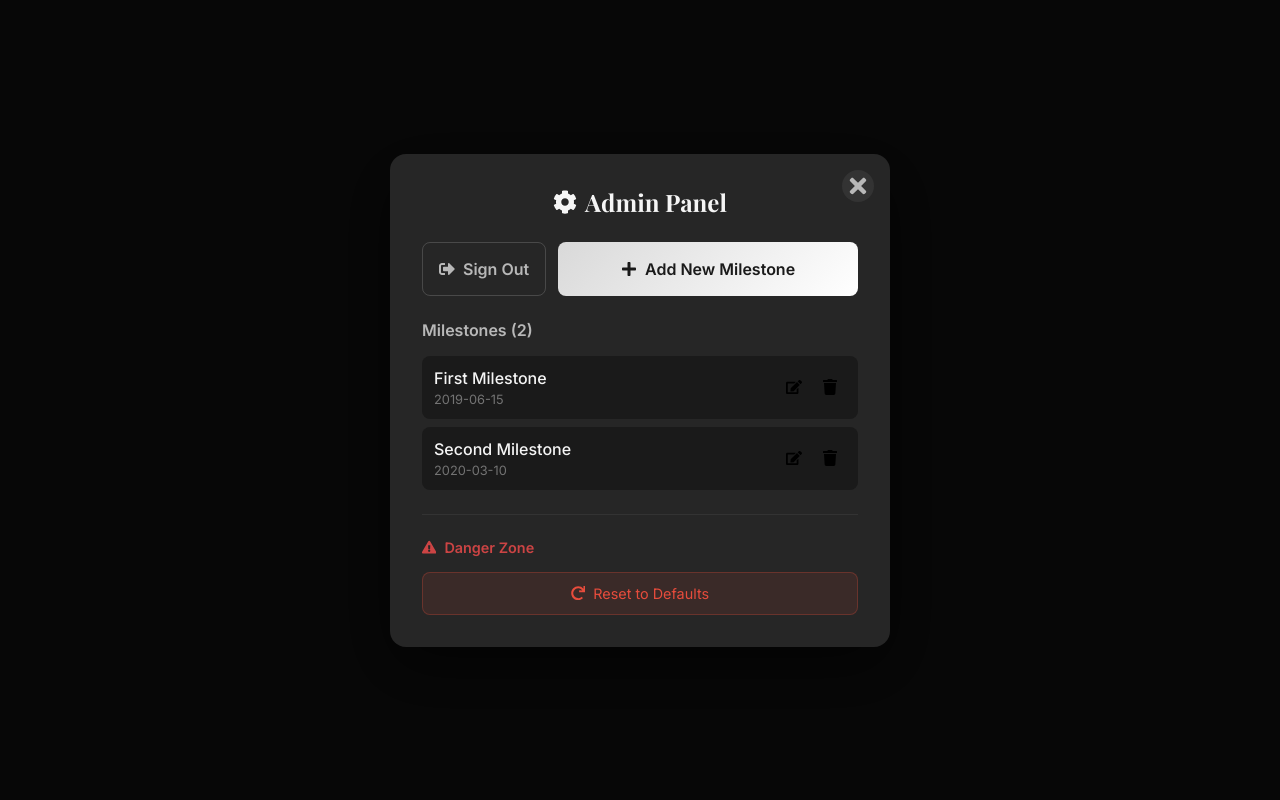
it: AdminPanel › Authenticated admin panel › should show confirmation before reset
Click the button "Reset to Defaults" at (640, 593), box top-left (422, 572), bottom-right (858, 614)
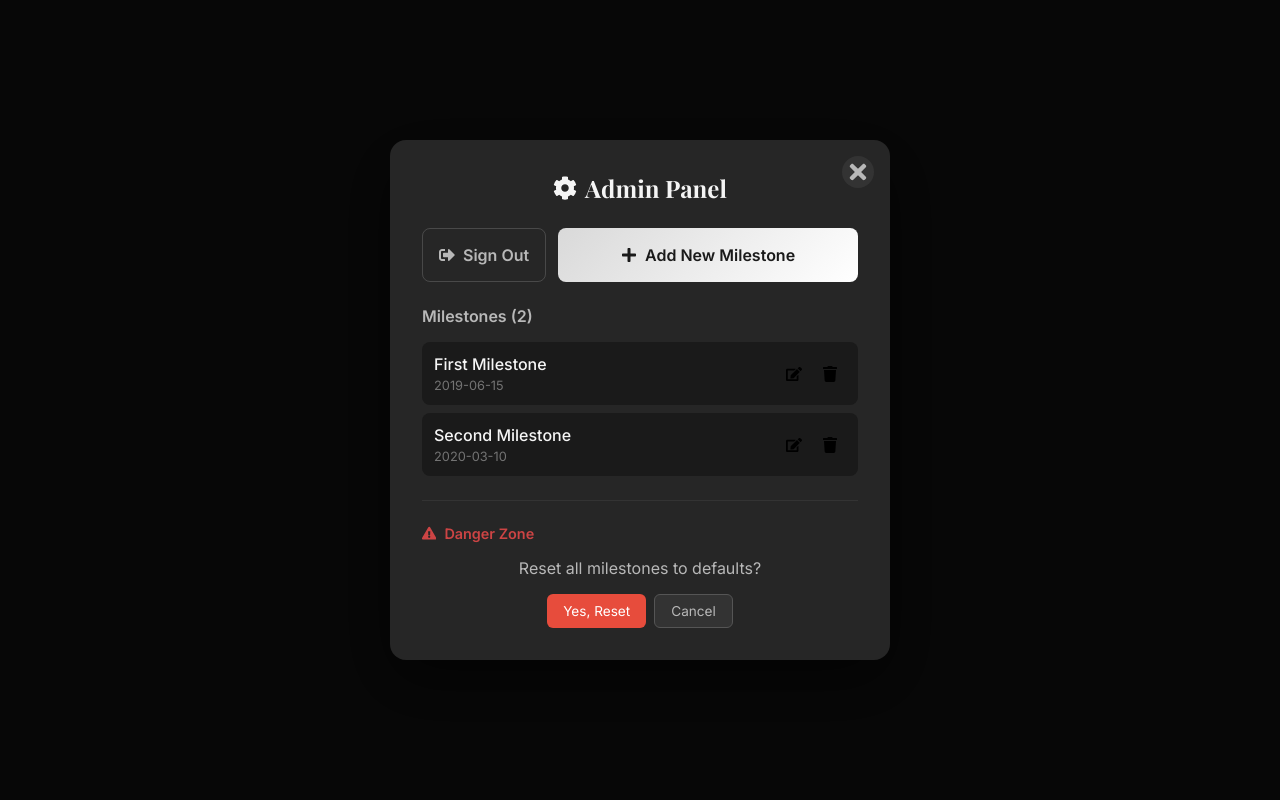
Check: the text "Reset all milestones to defaults?" is shown, box top-left (519, 558), bottom-right (761, 578)
Check: the button "Yes, Reset" is shown, box top-left (547, 594), bottom-right (646, 628)
